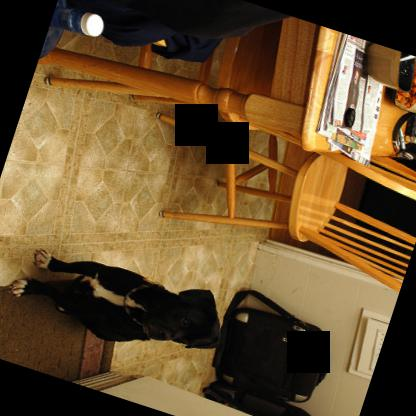backpack: (80, 0, 292, 64), (203, 381, 311, 416)
handbag: (210, 289, 328, 402)
